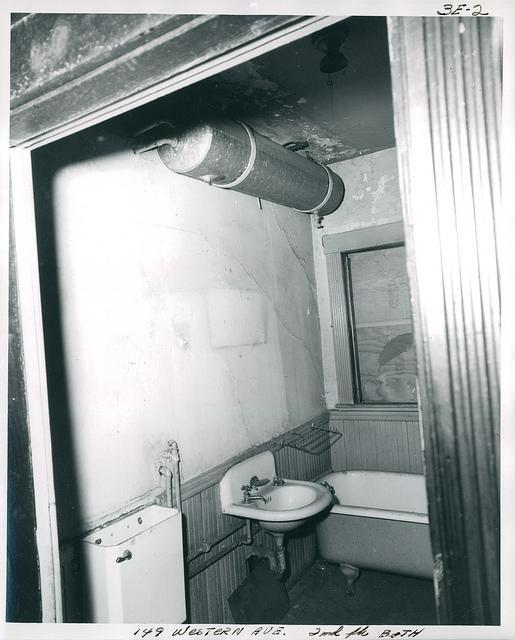Lavamanos: (220, 453, 337, 536)
